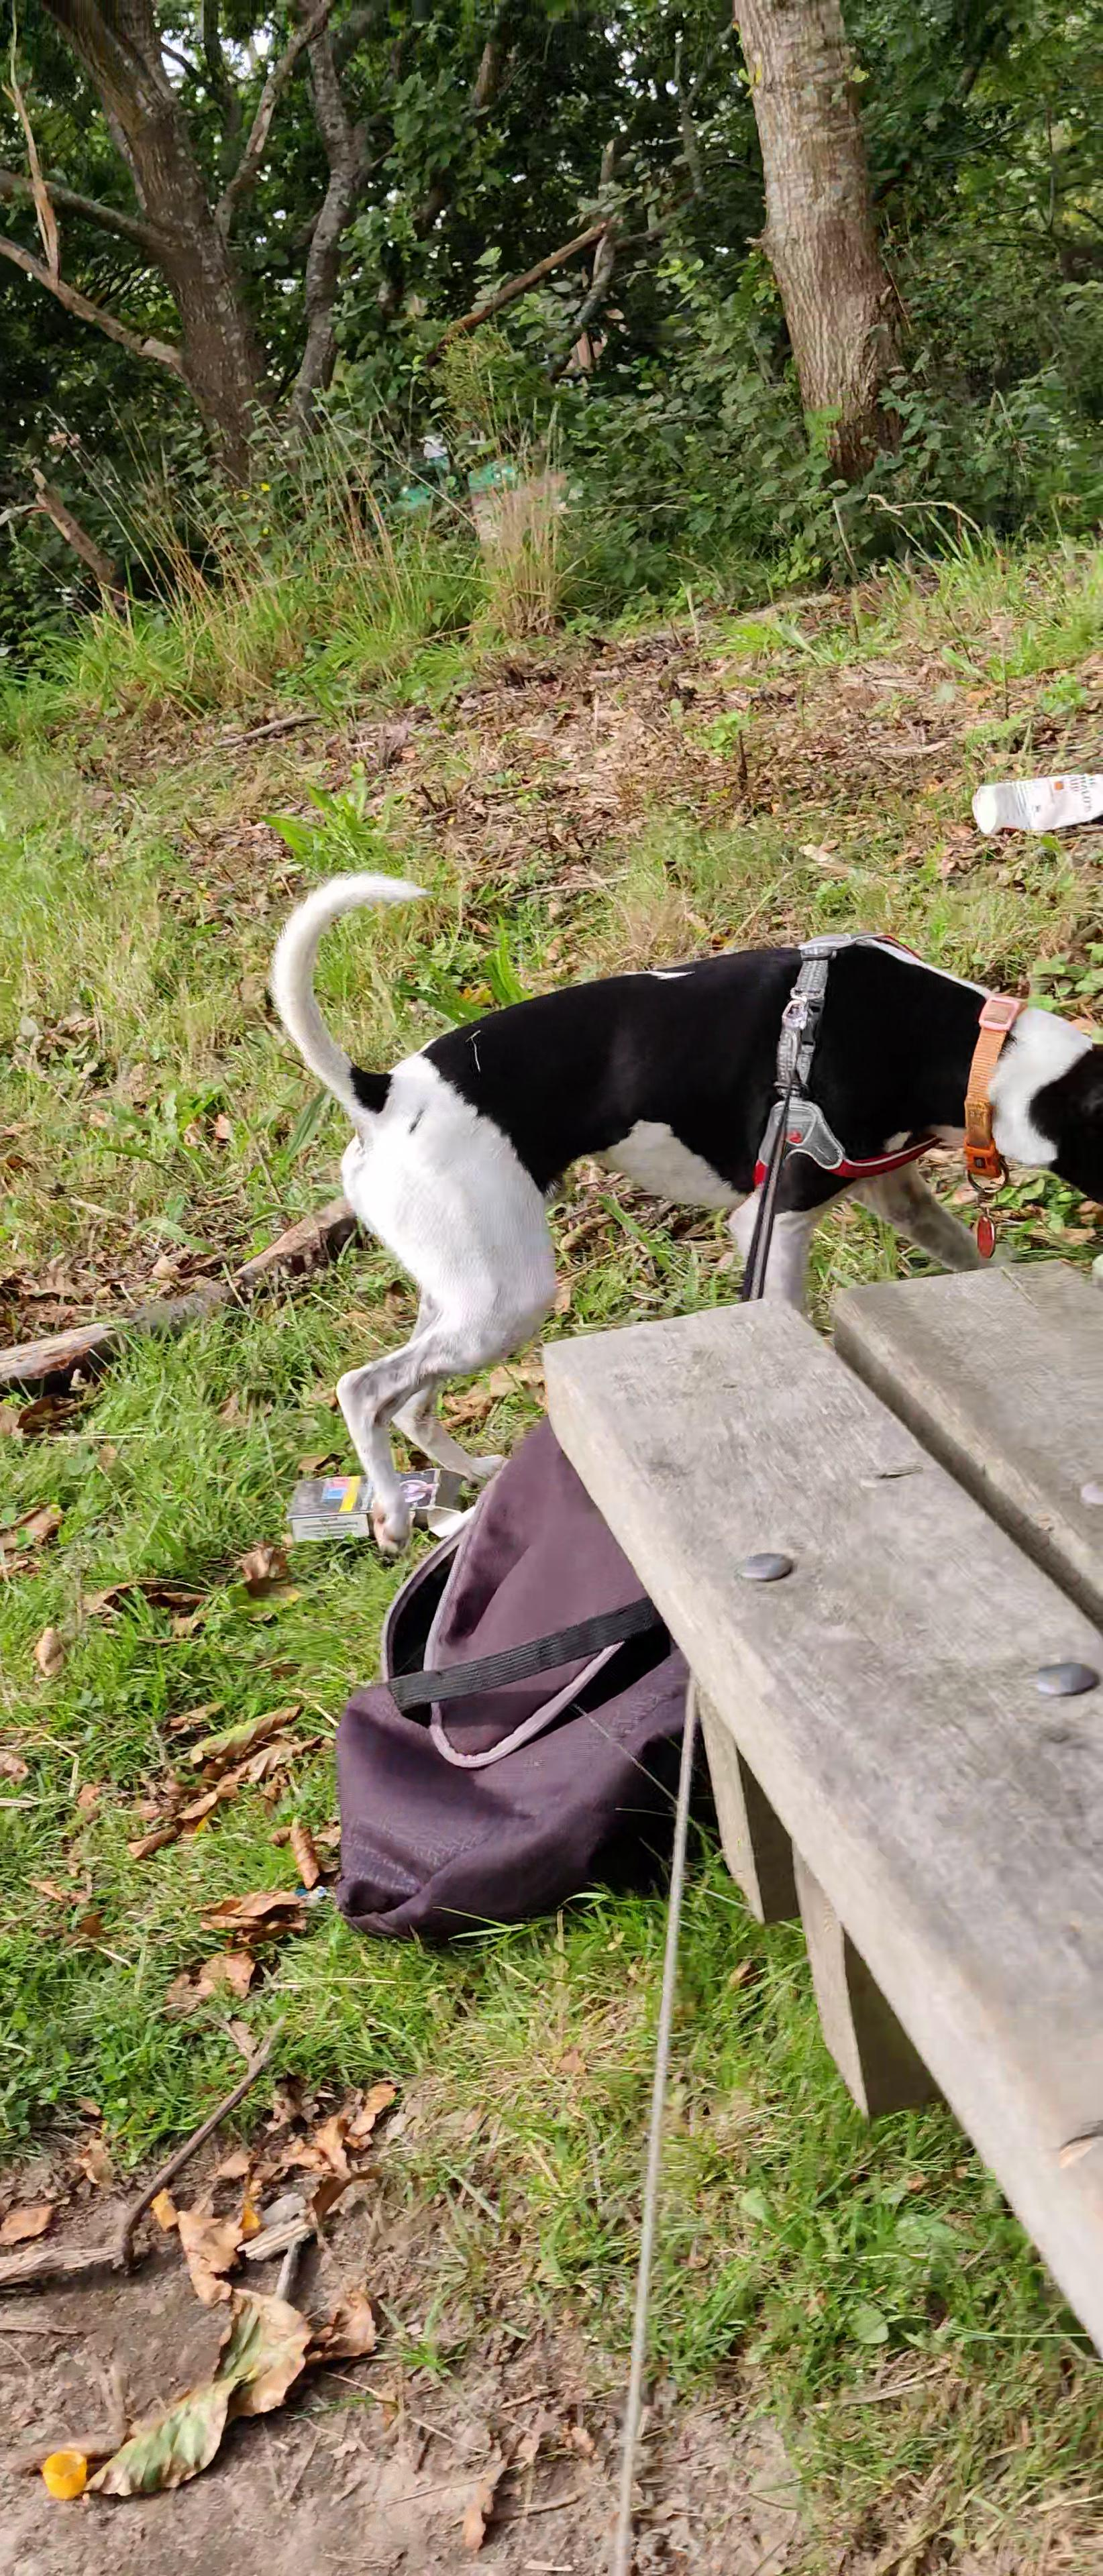Dog: (258, 869, 1103, 1567)
